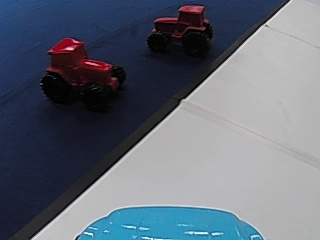Tracktor: (38, 36, 130, 108), (148, 4, 216, 56)
